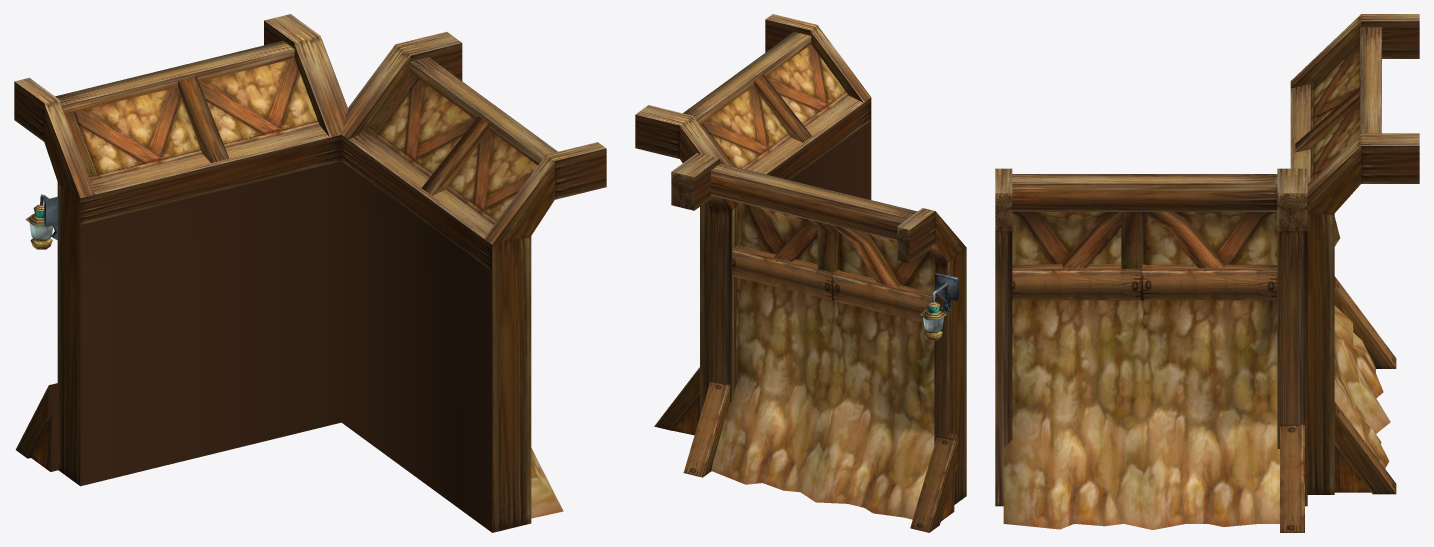
File: a_SWGuwall01d.glb
3 views of the same model, side by side, from view 1: azimuth 30°, elevation 25°; view 2: azimuth 150°, elevation 25°; view 3: azimuth 270°, elevation 25° (orthographic). The views are drawn at different scales.
Parts seen in each view (by area): view 1: a_SWGuwall01d; view 2: a_SWGuwall01d; view 3: a_SWGuwall01d.
Part boxes in pixels (x1=…): a_SWGuwall01d: x1=14, y1=14, x2=606, y2=532; a_SWGuwall01d: x1=635, y1=14, x2=966, y2=532; a_SWGuwall01d: x1=995, y1=14, x2=1419, y2=532.
Bounding box in the file's own units: 4.42 × 3.89 × 4.28.
Materials: 2 (2 with a texture image).
